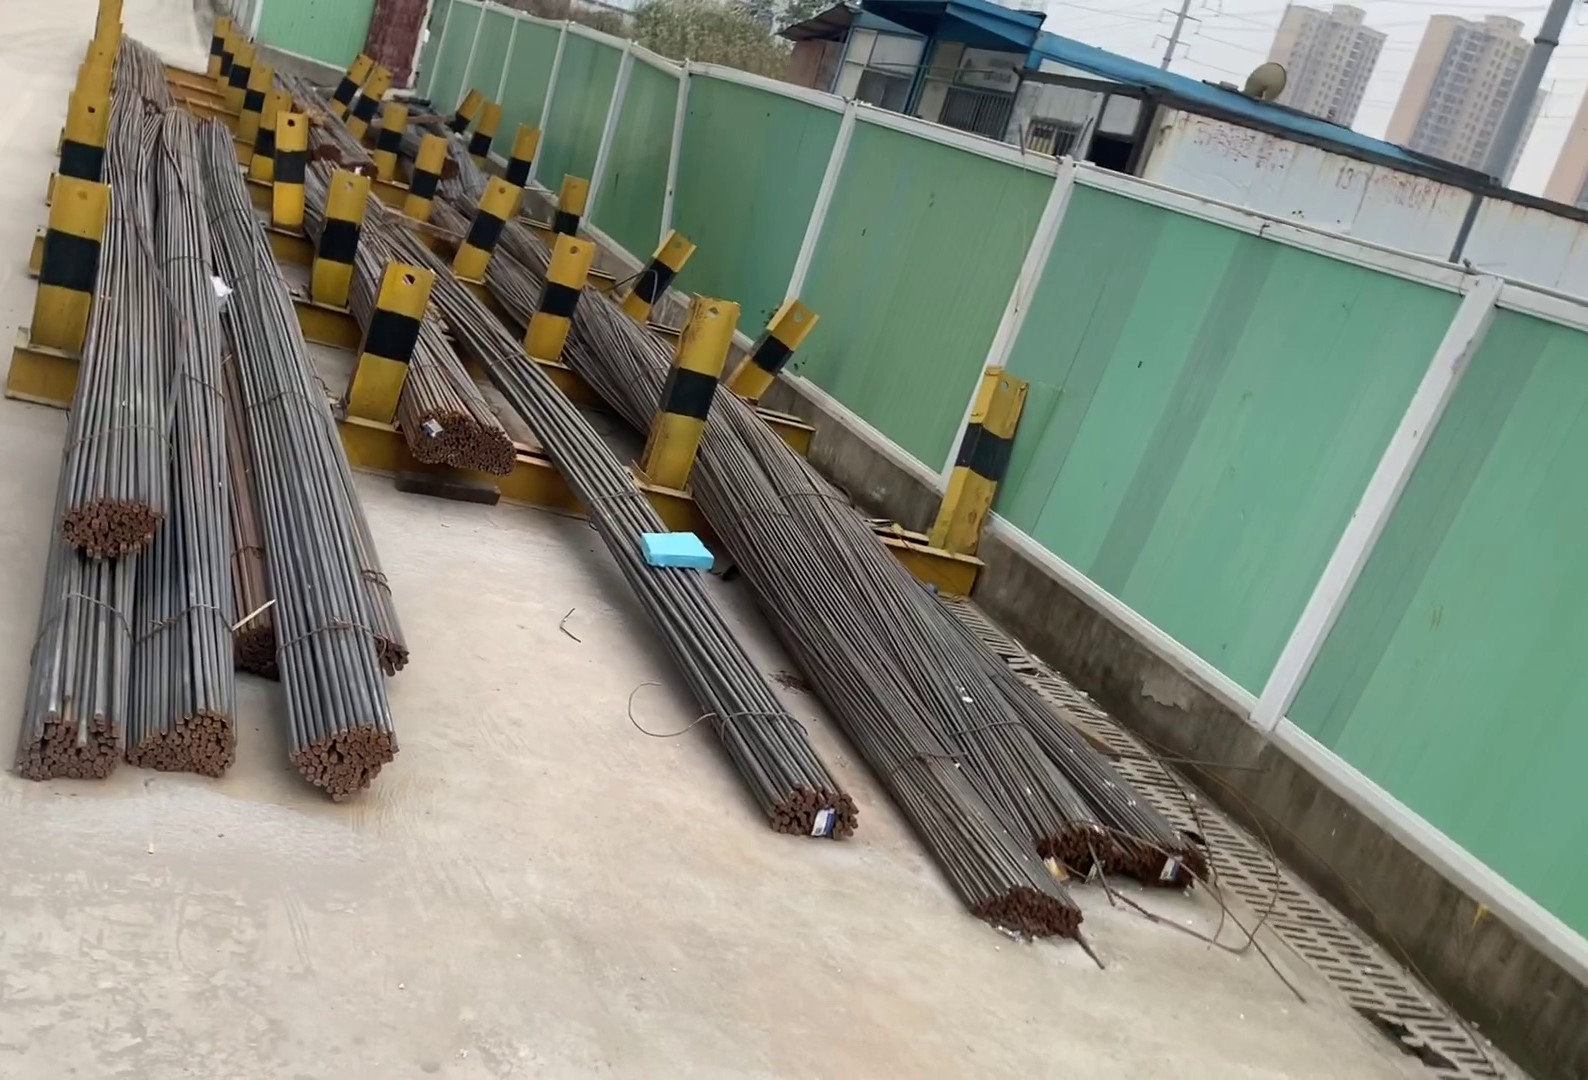rebar: (1034, 806, 1213, 890), (961, 868, 1082, 946), (298, 715, 399, 805), (4, 699, 117, 776), (411, 407, 514, 476), (760, 775, 864, 843), (133, 714, 239, 776), (64, 491, 155, 558), (223, 614, 293, 679), (366, 620, 413, 677)
